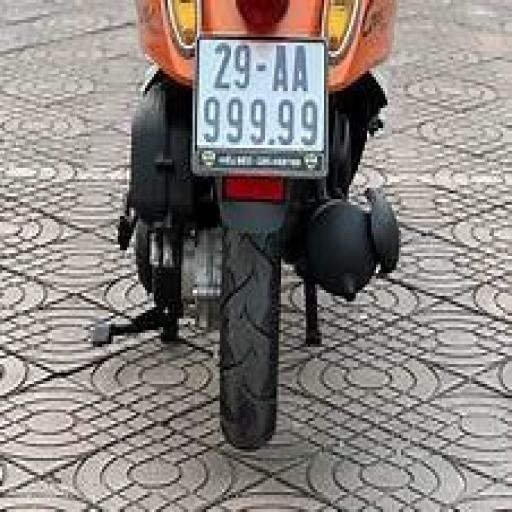place: (202, 35, 324, 171)
